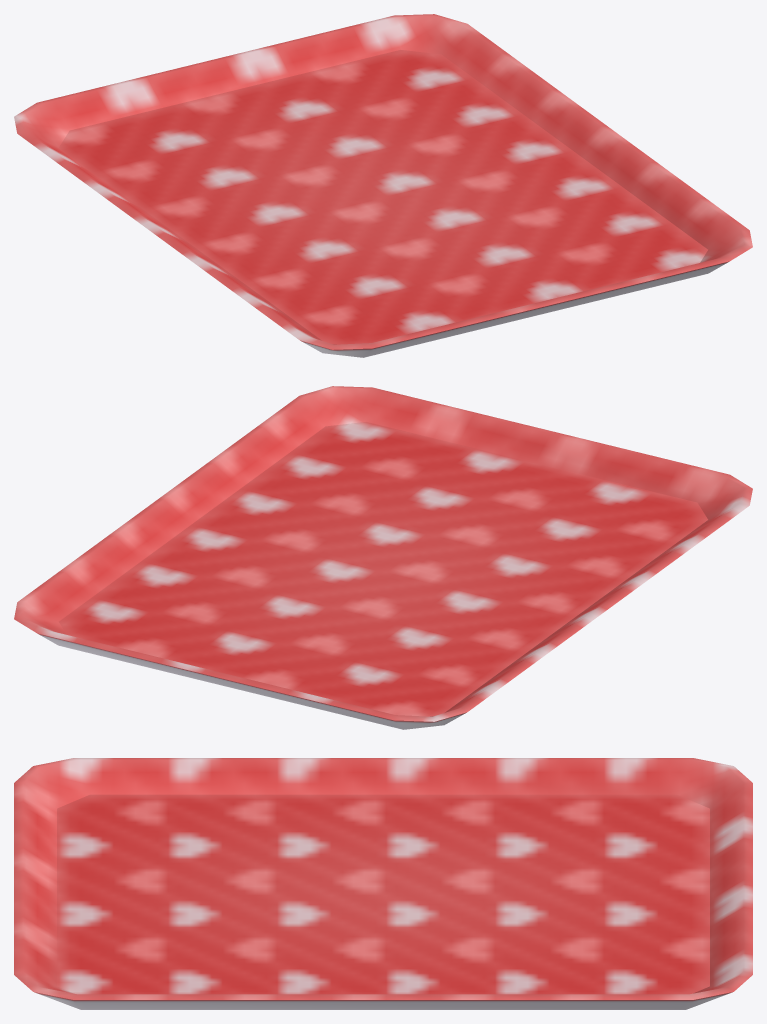
File: jsf_Tray_02.fbx
3 renders of one model, top to bottom at view 1: azimuth 30°, elevation 25°; view 2: azimuth 150°, elevation 25°; view 3: azimuth 270°, elevation 25°, orthographic. The views are drawn at different scales.
Visible parts, largest first — view 1: jsf_Tray_02; view 2: jsf_Tray_02; view 3: jsf_Tray_02.
Part boxes in pixels (x1,y1,x2,y2): jsf_Tray_02: (14, 14, 752, 357); jsf_Tray_02: (14, 386, 752, 729); jsf_Tray_02: (14, 758, 752, 1009).
Bounding box in the file's own units: 21.76 × 1.1 × 28.1.
